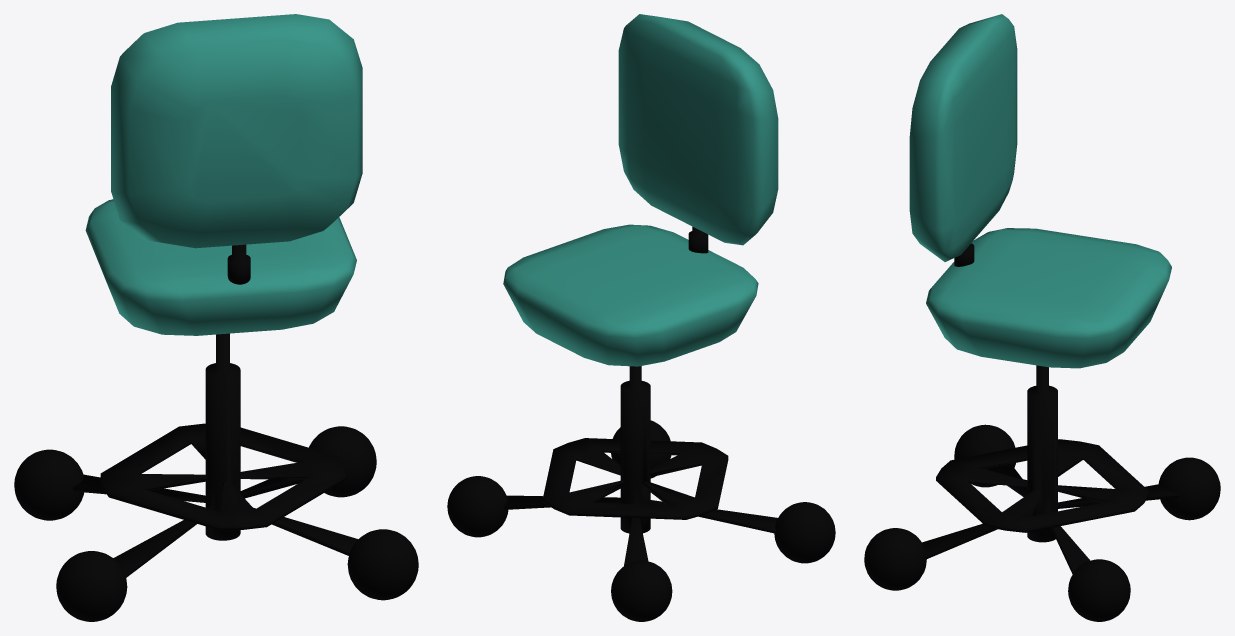
Rendered from chair.fbx.
The picture shows the model from 3 angles, left to right: view 1: azimuth 30°, elevation 25°; view 2: azimuth 150°, elevation 25°; view 3: azimuth 270°, elevation 25°; orthographic projection. The views are drawn at different scales.
Visible parts, largest first — view 1: chair.002; view 2: chair.002; view 3: chair.002.
Part boxes in pixels (x1,y1,x2,y2): chair.002: [14, 14, 418, 621]; chair.002: [447, 14, 835, 621]; chair.002: [864, 14, 1220, 621].
Bounding box in the file's own units: 149 × 217 × 139.
